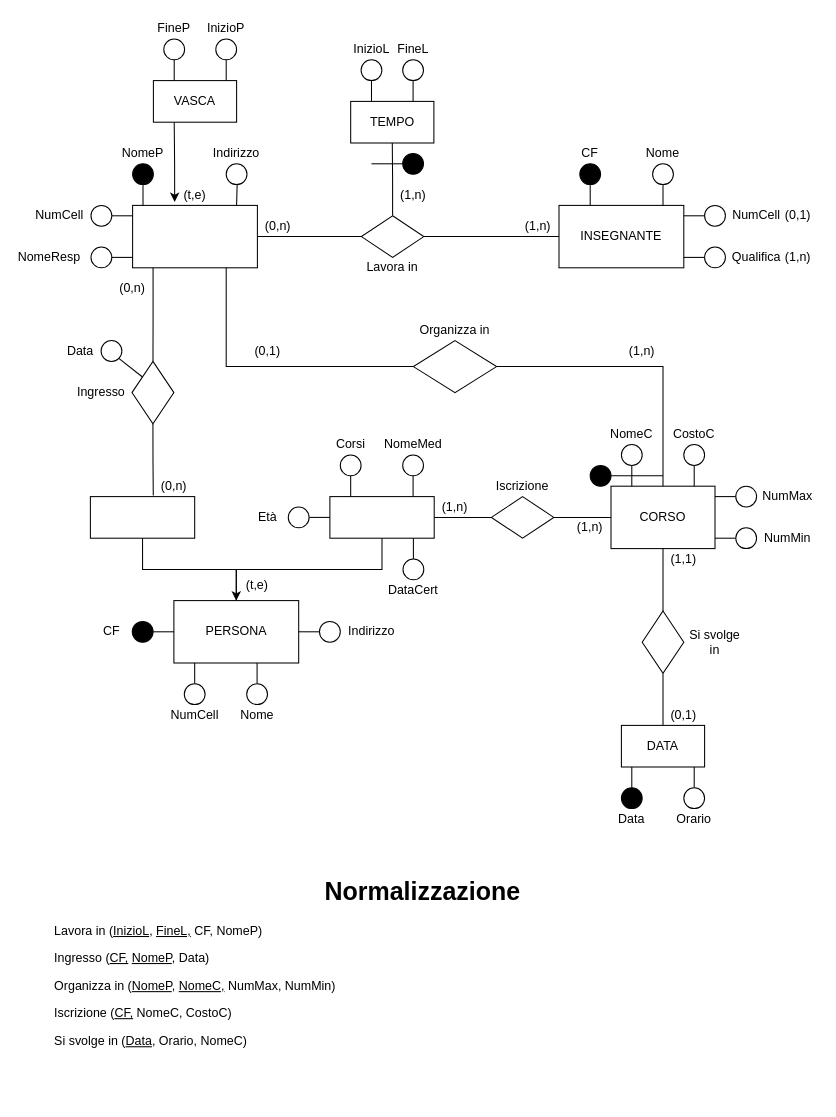
Some shapes in this 836 by 1117 pixel diagram are drawn without their labels. Here are the shapes that lost their labels. From the top down, the box of each, then its label:
(132, 204, 257, 268): PISCINE
(89, 496, 195, 538): Non iscritto
(329, 496, 434, 538): Iscritto
